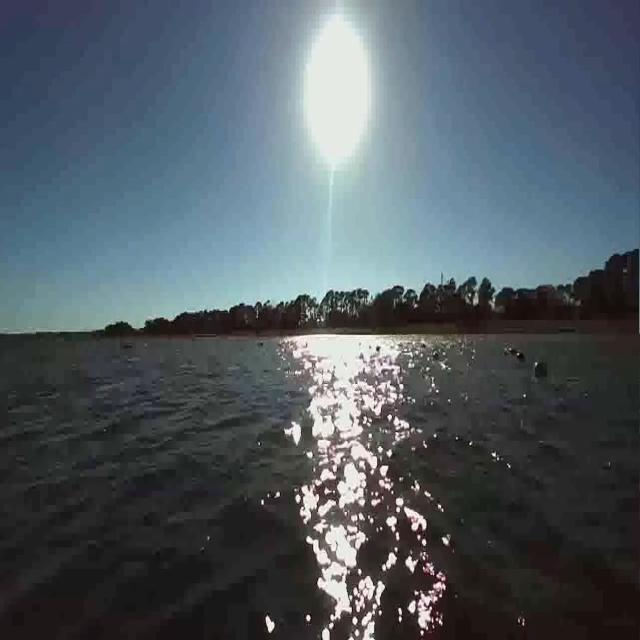black-buoy: (534, 358, 548, 377)
